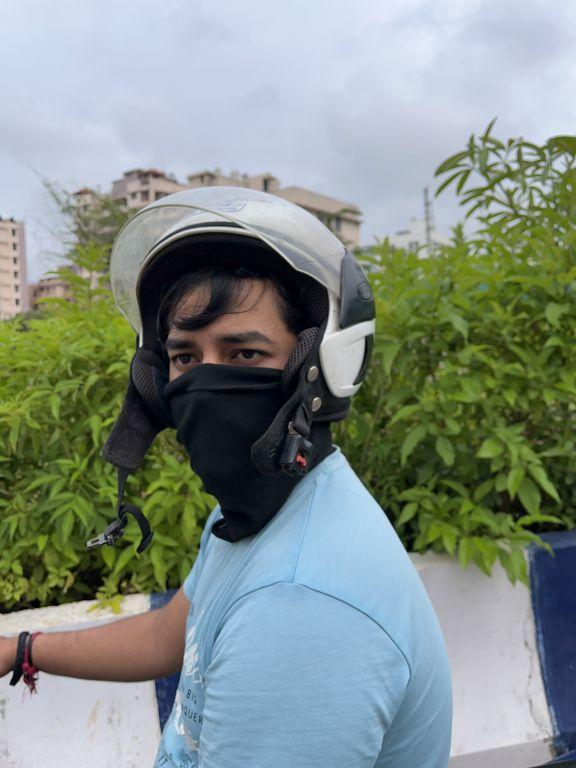helmet: (90, 167, 397, 455)
